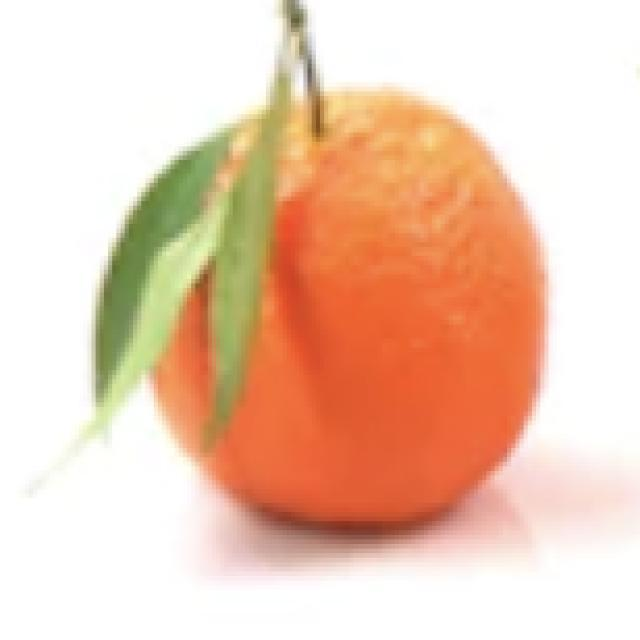Orange: (97, 84, 549, 527)
